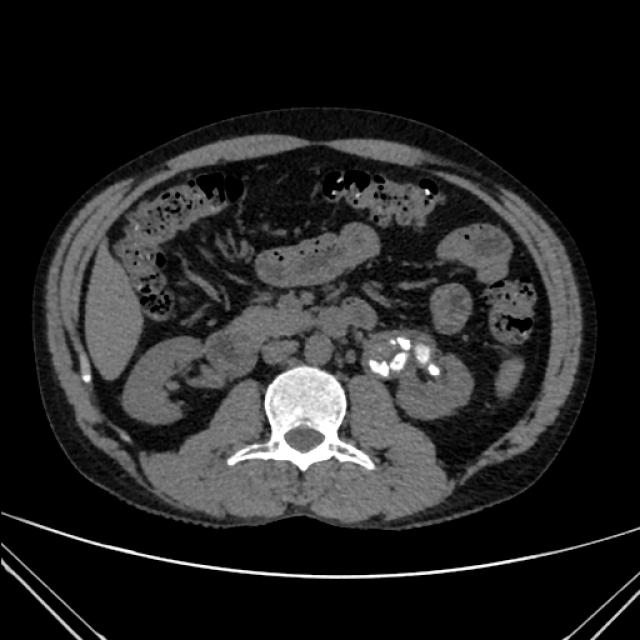kidneystone: (364, 350, 408, 378), (414, 342, 441, 378), (398, 338, 410, 351)
